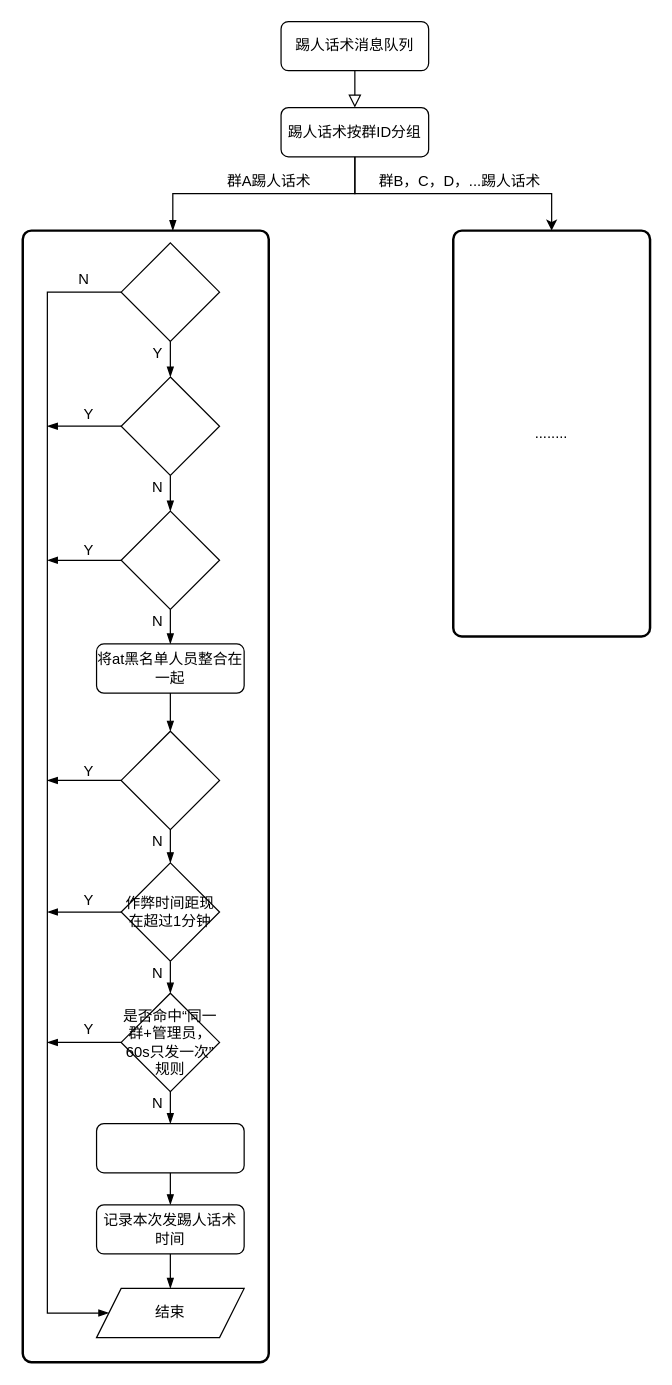
The diagram is 672 pixels wide and 1385 high, and some of its shapes have lost their labels. The shapes that lost their labels are listed below. From the top down, each one's centre as x and y in pixels, then its label:
At [170,291]: "查库检查机器人是否在库里".
At [170,425]: "判断机器人是否刚上线".
At [170,559]: "可用机器人数据 == 0".
At [170,780]: "判断本次踢人话术时间是否早于上次发送时间".
At [169,1147]: "发送踢人话术".
